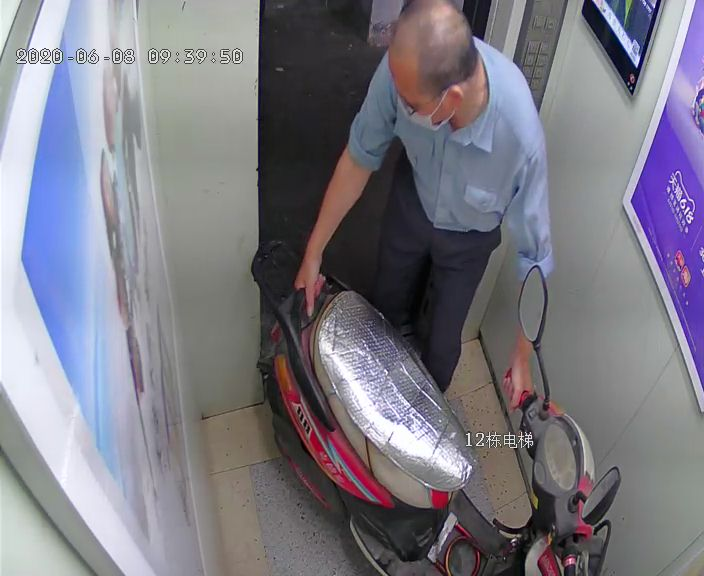Electric-bicycle: (248, 238, 622, 573)
